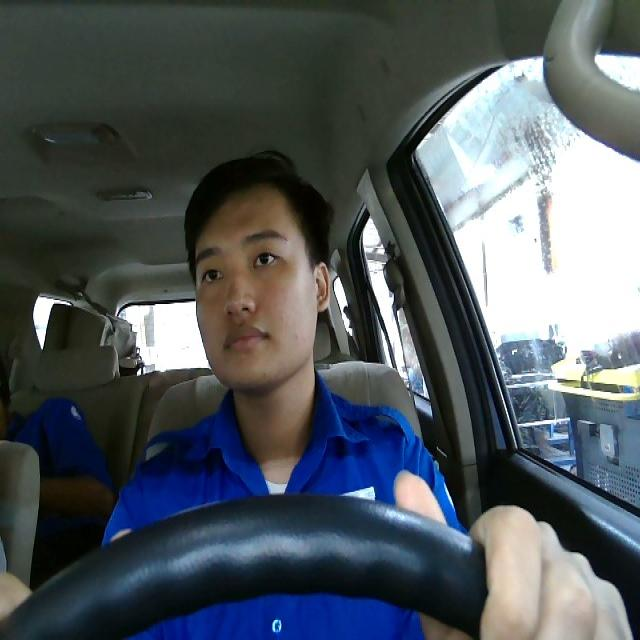seeing_left: (191, 180, 331, 387)
